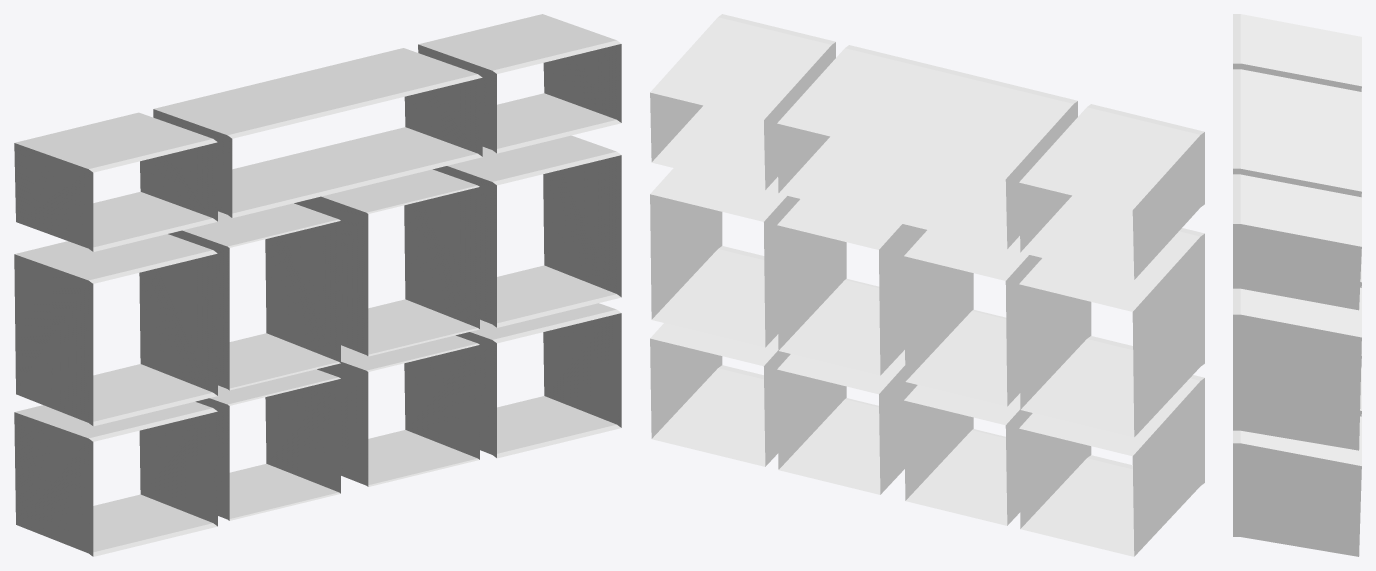
The model's file is set_add_effect_door_b.fbx.
The picture shows the model from 3 angles, left to right: view 1: azimuth 30°, elevation 25°; view 2: azimuth 150°, elevation 25°; view 3: azimuth 270°, elevation 25°; orthographic projection. The views are drawn at different scales.
Visible parts, largest first — view 1: door_b_window_add_effect, door_b_02_add_effect, door_b_01_add_effect; view 2: door_b_window_add_effect, door_b_02_add_effect, door_b_01_add_effect; view 3: door_b_window_add_effect.
Boxes of the visible parts, box(x1,y1,x2,y2) form: door_b_window_add_effect: box(14, 14, 621, 556); door_b_02_add_effect: box(294, 169, 479, 486); door_b_01_add_effect: box(168, 203, 340, 520); door_b_window_add_effect: box(650, 14, 1204, 556); door_b_02_add_effect: box(777, 199, 926, 494); door_b_01_add_effect: box(904, 230, 1041, 525); door_b_window_add_effect: box(1233, 14, 1361, 556).
Bounding box in the file's own units: 386 × 285 × 100.
